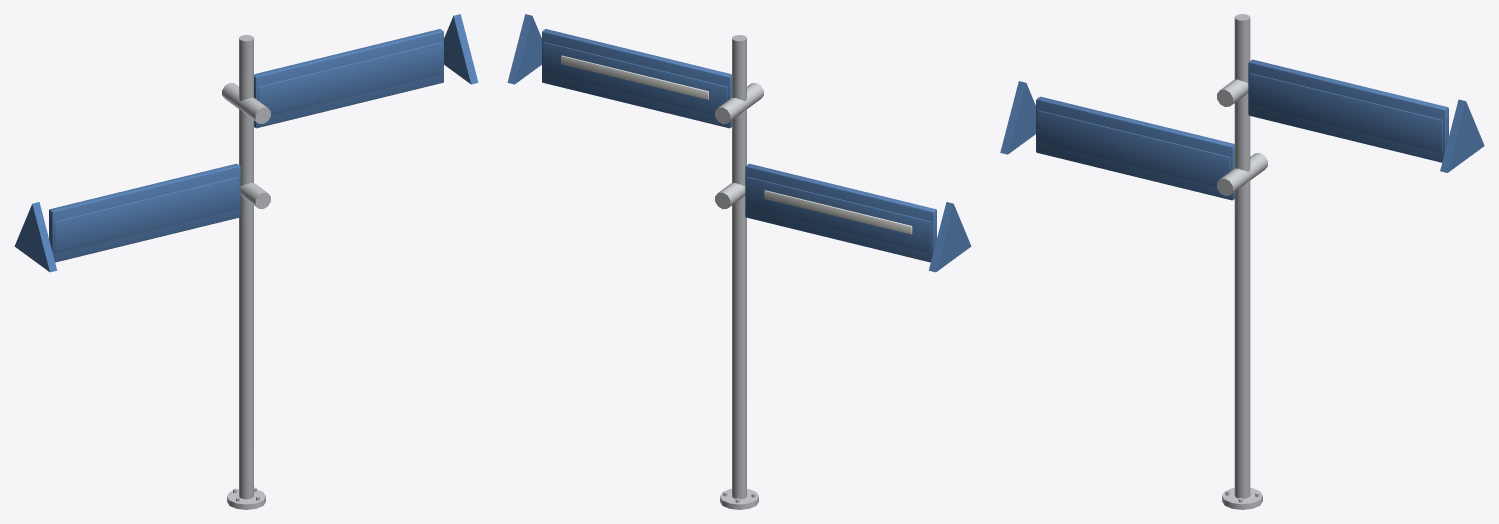
File: th39_wegweiser.glb
The picture shows the model from 3 angles, left to right: view 1: azimuth 30°, elevation 25°; view 2: azimuth 150°, elevation 25°; view 3: azimuth 330°, elevation 25°; orthographic projection. The views are drawn at different scales.
Visible parts, largest first — view 1: Cylinder, Cube.004, Cube.001, Cube.003, Cube, Cone.001, Cone, Cylinder.006, Cylinder.007, Cylinder.001; view 2: Cylinder, Cube.004, Cube.003, Cube.001, Cube, Cone.001, Cone, Cube.005, Cube.002, Cylinder.006, Cylinder.007, Cylinder.001; view 3: Cylinder, Cube.001, Cube.004, Cube, Cube.003, Cone, Cone.001, Cylinder.007, Cylinder.001, Cylinder.006.
Part boxes in pixels (x1,y1,x2,y2): Cylinder: (239,35,253,499); Cube.004: (54,176,239,252); Cube.001: (258,42,442,115); Cube.003: (49,163,240,262); Cube: (254,29,443,128); Cone.001: (14,202,57,272); Cone: (444,14,478,84); Cylinder.006: (222,83,270,123); Cylinder.007: (240,182,270,208); Cylinder.001: (227,489,265,509); Cylinder: (732,35,746,499); Cube.004: (746,176,931,252); Cube.003: (745,163,936,262); Cube.001: (543,42,727,115); Cube: (542,29,731,128); Cone.001: (928,202,971,272); Cone: (507,14,541,84); Cube.005: (764,190,912,234); Cube.002: (561,55,708,99); Cylinder.006: (715,83,763,123); Cylinder.007: (715,182,745,208); Cylinder.001: (720,489,758,509); Cylinder: (1234,14,1250,498); Cube.001: (1250,73,1442,152); Cube.004: (1037,110,1230,186); Cube: (1248,59,1448,162); Cube.003: (1036,96,1234,200); Cone: (1440,99,1484,172); Cone.001: (1000,81,1035,154); Cylinder.007: (1217,153,1267,195); Cylinder.001: (1222,488,1262,509); Cylinder.006: (1217,79,1248,106).
Bounding box in the file's own units: 2.95 × 3.05 × 0.424.
